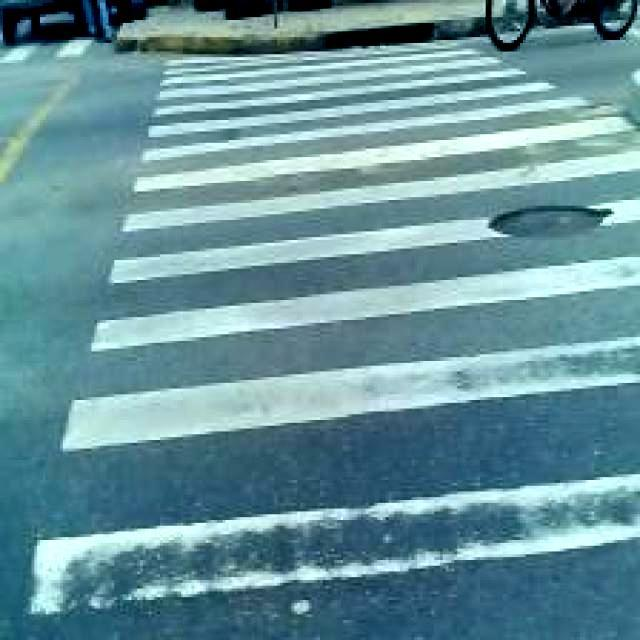crosswalk: (20, 31, 636, 639)
